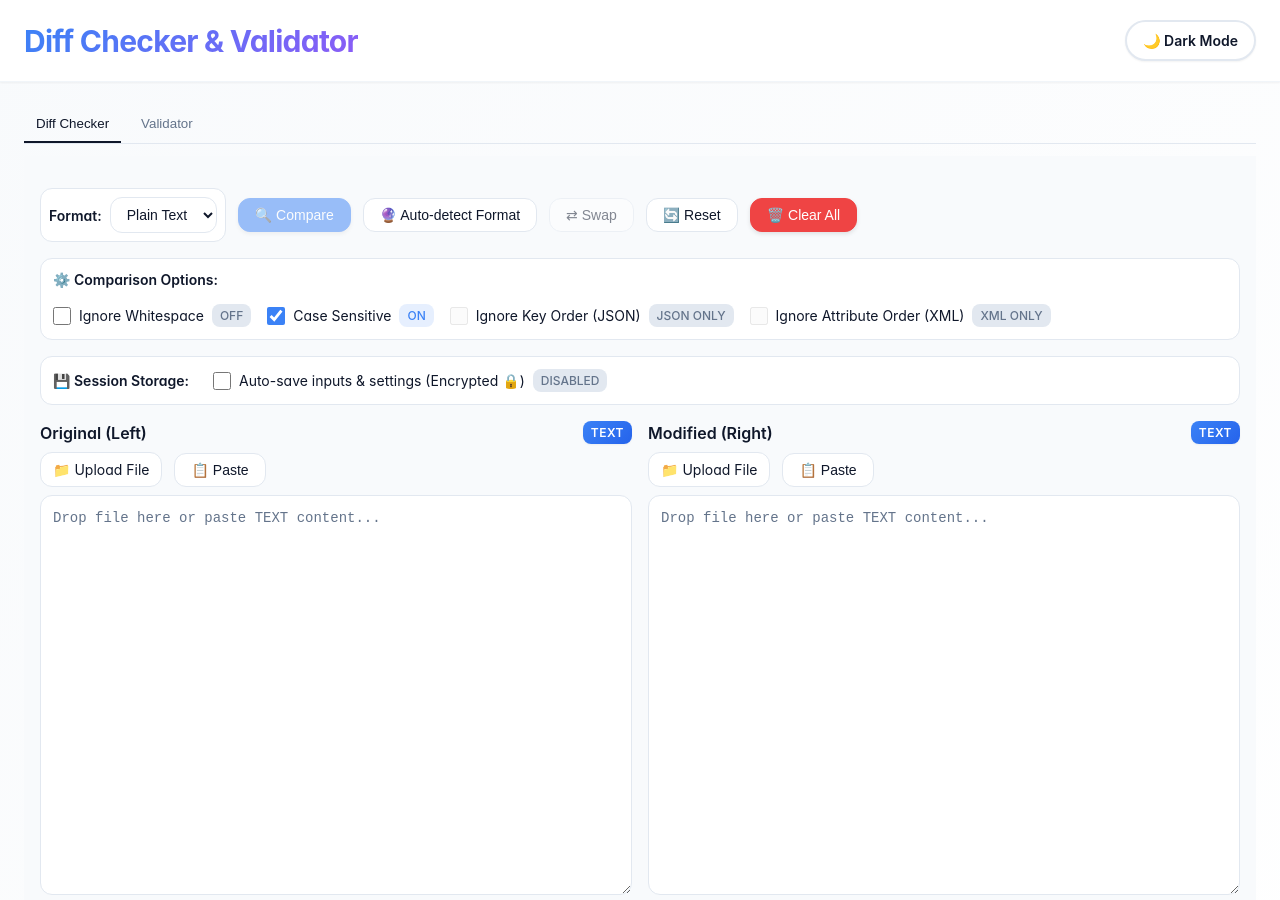
Scenario: Home Page › Theme Management › should toggle to dark theme
The width and height of the screenshot is (1280, 900).
Click the button "🌙 Dark Mode" at (1191, 40), box [1125,20,1256,61]
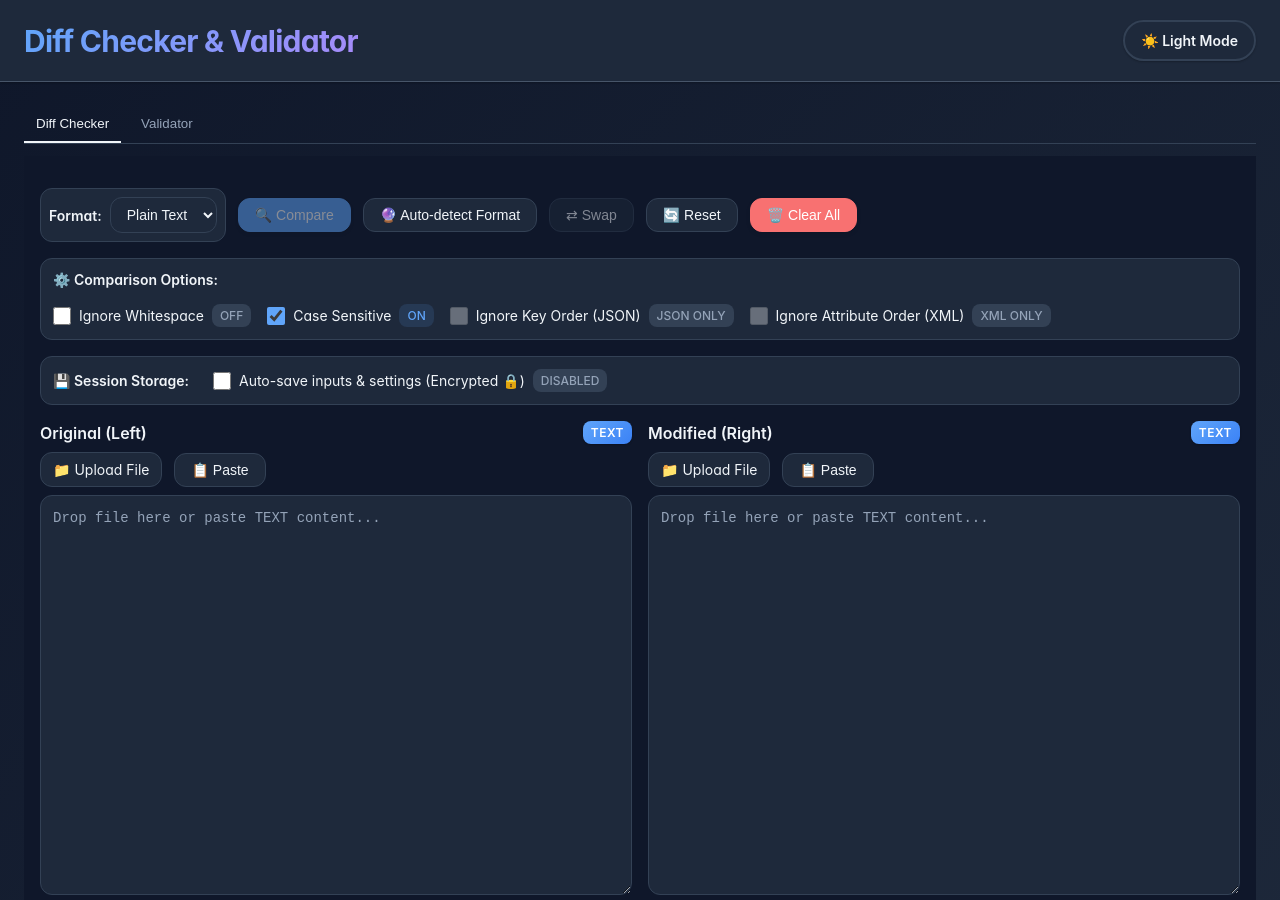
Now the button "☀️ Light Mode" is shown, box [1123,20,1256,61]
